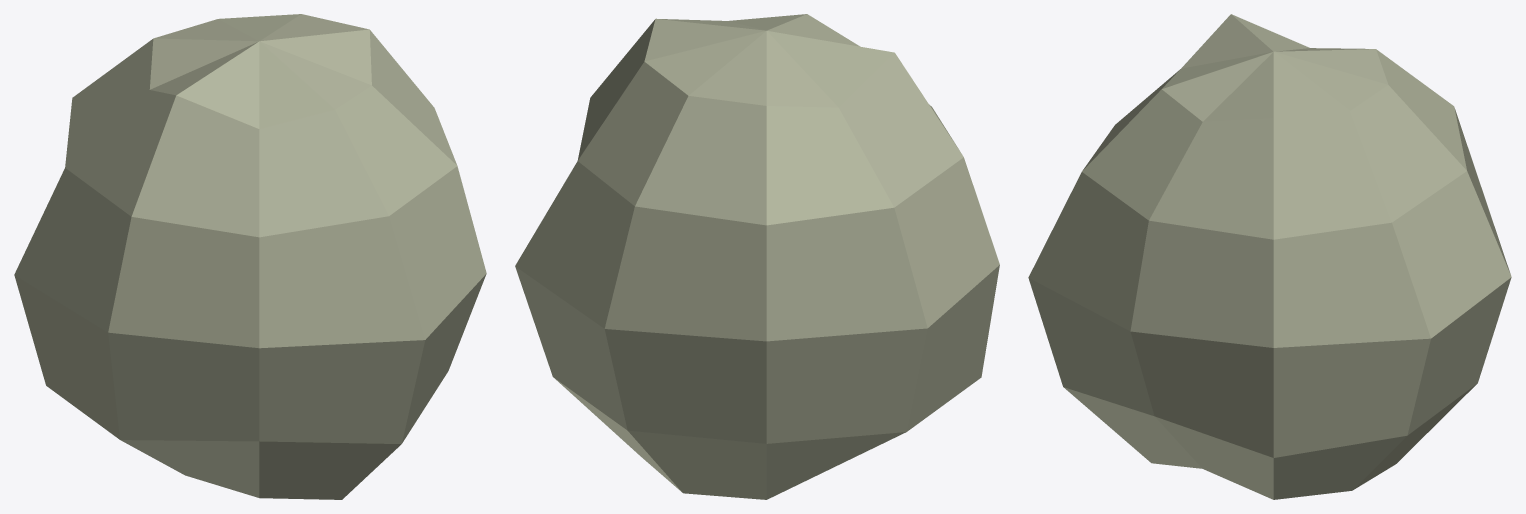
Rendered from enemy-beetle.glb.
3 views of the same model, side by side, from view 1: azimuth 30°, elevation 25°; view 2: azimuth 150°, elevation 25°; view 3: azimuth 270°, elevation 25° (orthographic). The views are drawn at different scales.
Visible parts, largest first — view 1: shell; view 2: shell; view 3: shell.
Part boxes in pixels (x1,y1,x2,y2): shell: (14,14,486,499); shell: (515,14,999,499); shell: (1028,14,1511,499).
Size of the model in its own units: 1.05 by 1.1 by 1.16.
